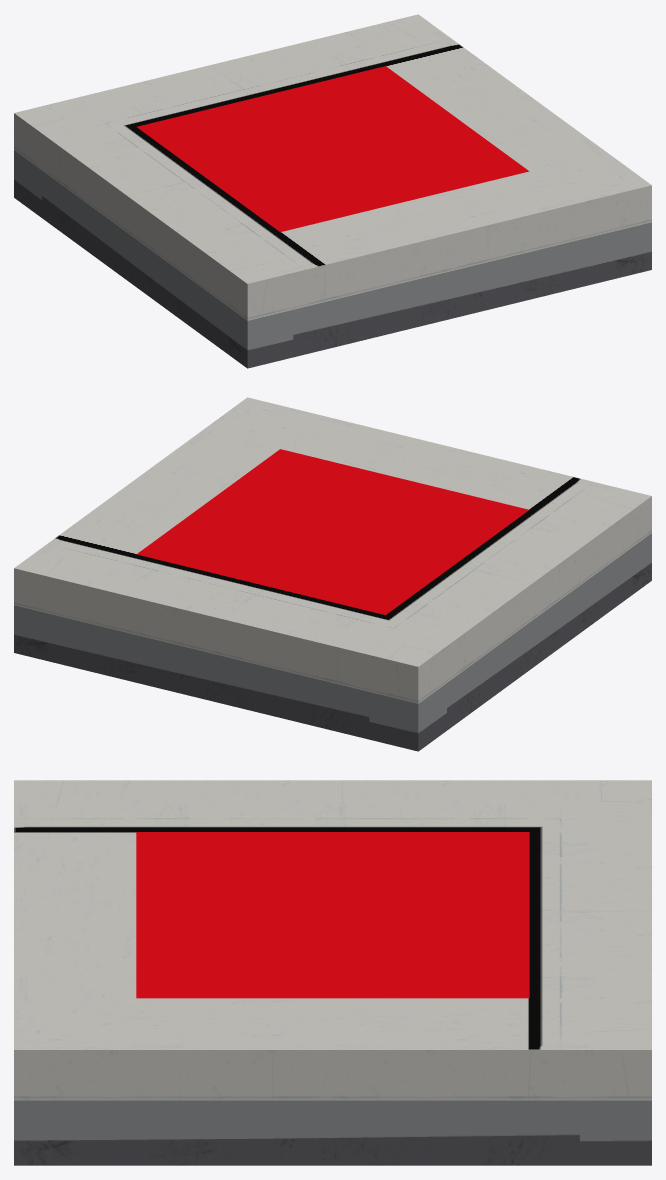
The model's file is G_Env_Arch_Floor_Metal_05_Single.fbx.
The picture shows the model from 3 angles, top to bottom: view 1: azimuth 30°, elevation 25°; view 2: azimuth 150°, elevation 25°; view 3: azimuth 270°, elevation 25°; orthographic projection. The views are drawn at different scales.
Parts seen in each view (by area): view 1: G_Env_Arch_Floor_Metal_05_Single; view 2: G_Env_Arch_Floor_Metal_05_Single; view 3: G_Env_Arch_Floor_Metal_05_Single.
Boxes of the visible parts, <box> form: G_Env_Arch_Floor_Metal_05_Single: <box>14,14,651,368</box>; G_Env_Arch_Floor_Metal_05_Single: <box>14,397,651,751</box>; G_Env_Arch_Floor_Metal_05_Single: <box>14,780,651,1165</box>.
Size of the model in its own units: 500 by 100 by 500.
